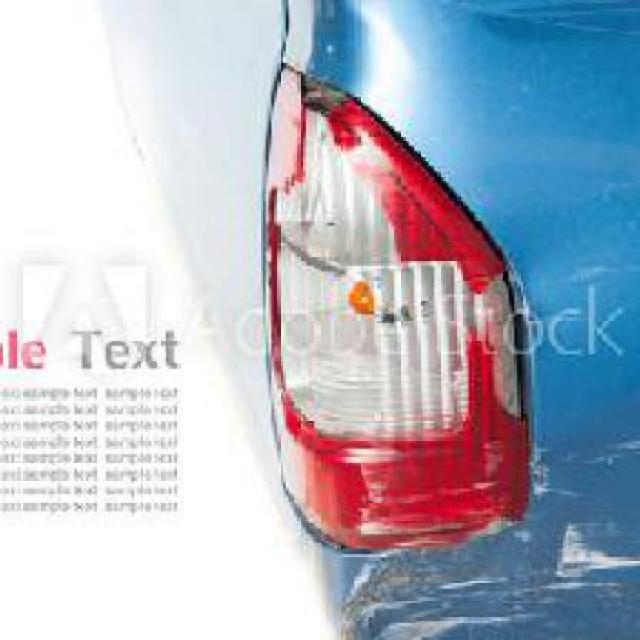damaged-tail-light: (266, 84, 539, 550)
